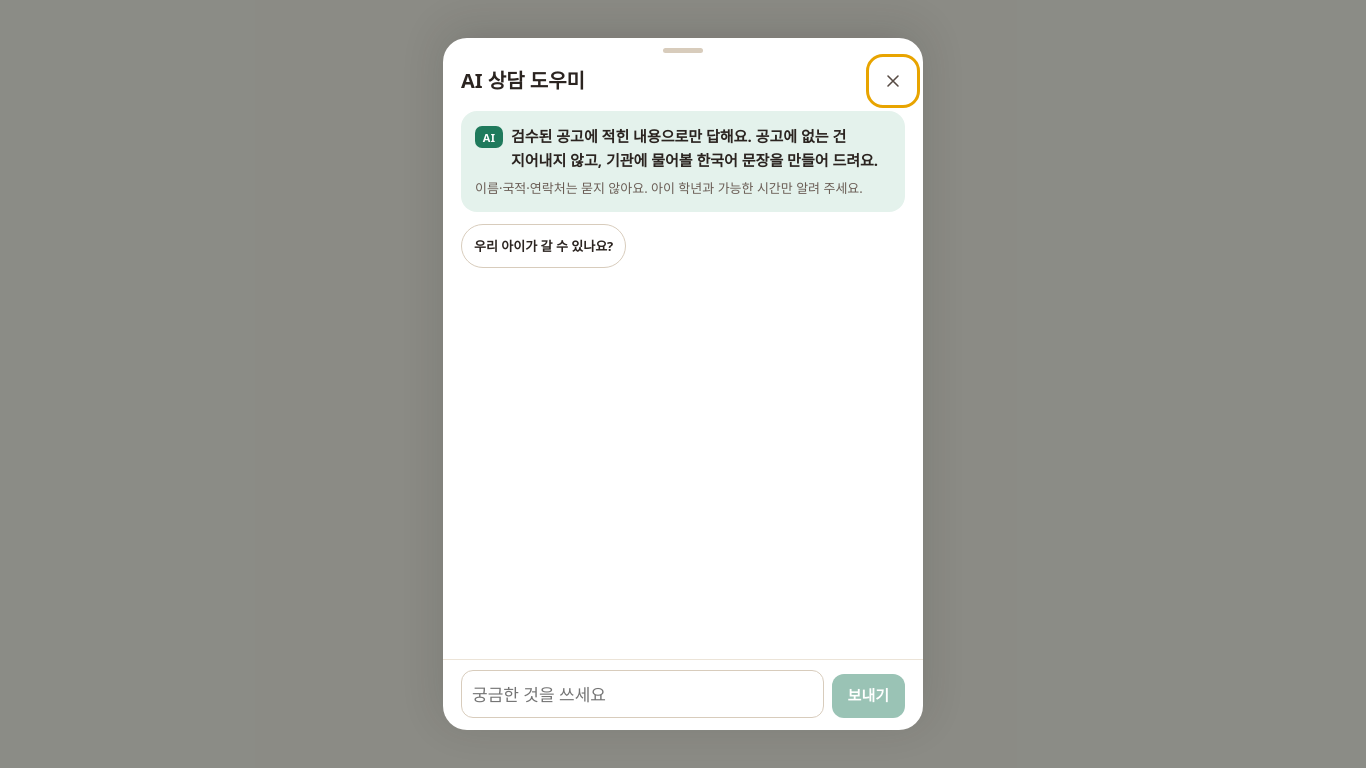
Test: 기관에 이름 없이 알리기 › 중간에 실패한 뒤 다시 누르면 아직 보내지 않은 질문만 보낸다
In the text box labelled "궁금한 것을 쓰세요": (642, 694) [461,670,824,718], type "형제도 갈 수 있어요?"
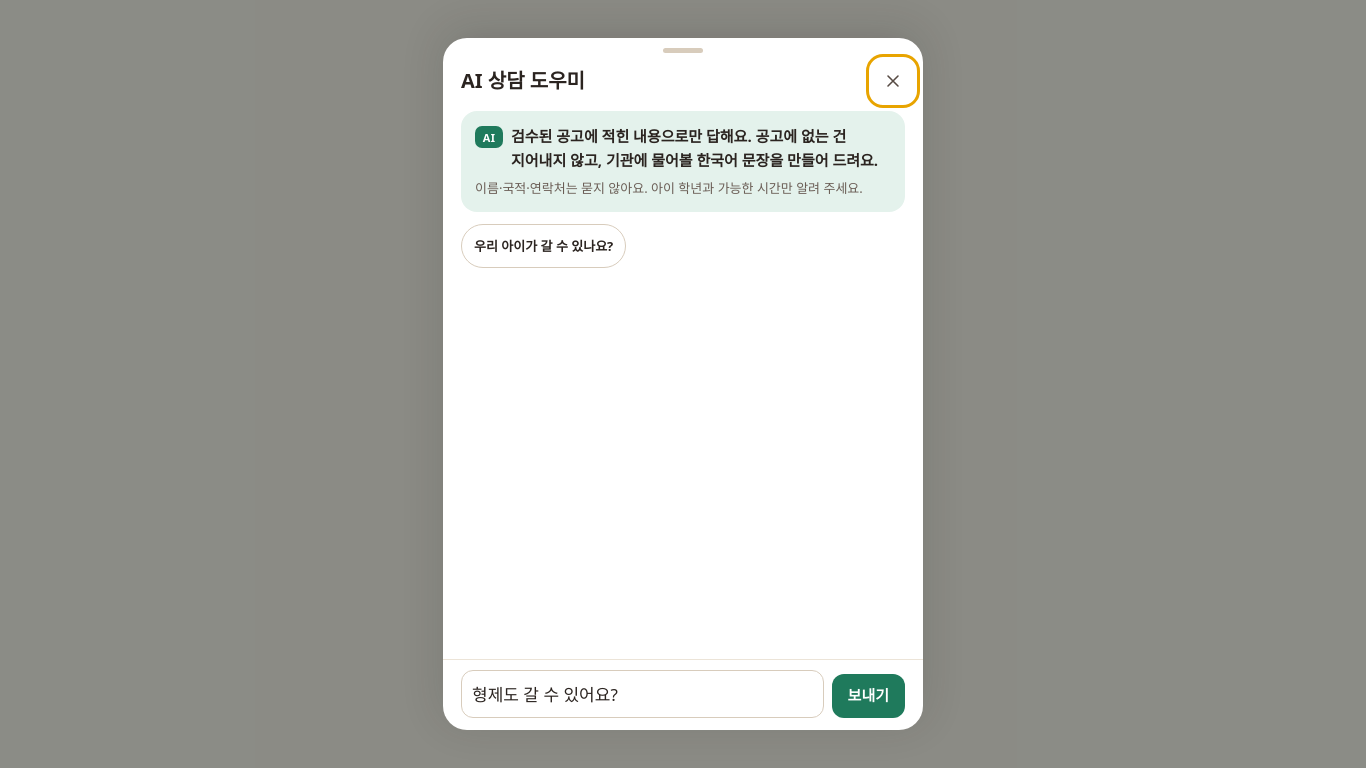
Press Enter in the text box named "궁금한 것을 쓰세요", box [461,670,824,718]
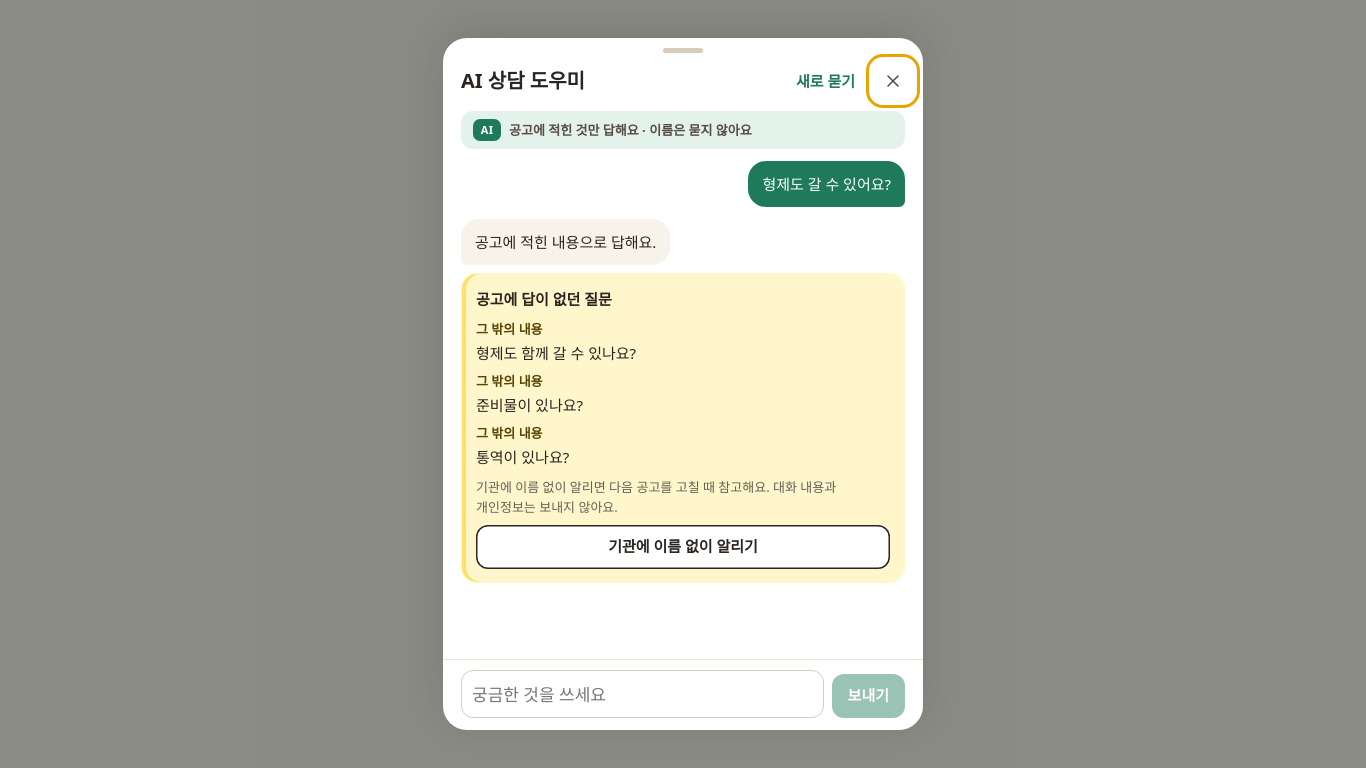
Click the button "기관에 이름 없이 알리기": click(683, 547) [476,525,890,569]
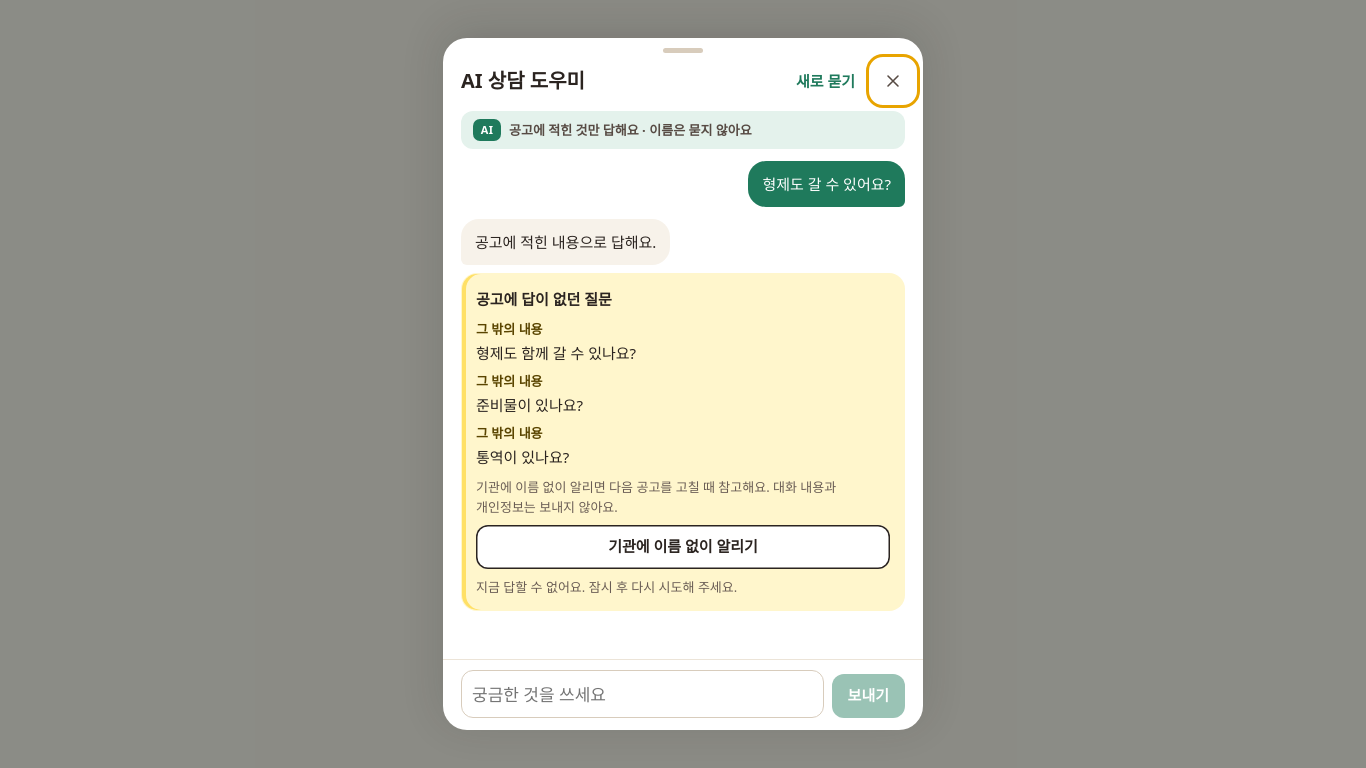
Expected: the text "지금 답할 수 없어요. 잠시 후 다시 시도해 주세요." is shown, [476,578,737,596]
Click the button "기관에 이름 없이 알리기": click(683, 547) [476,525,890,569]
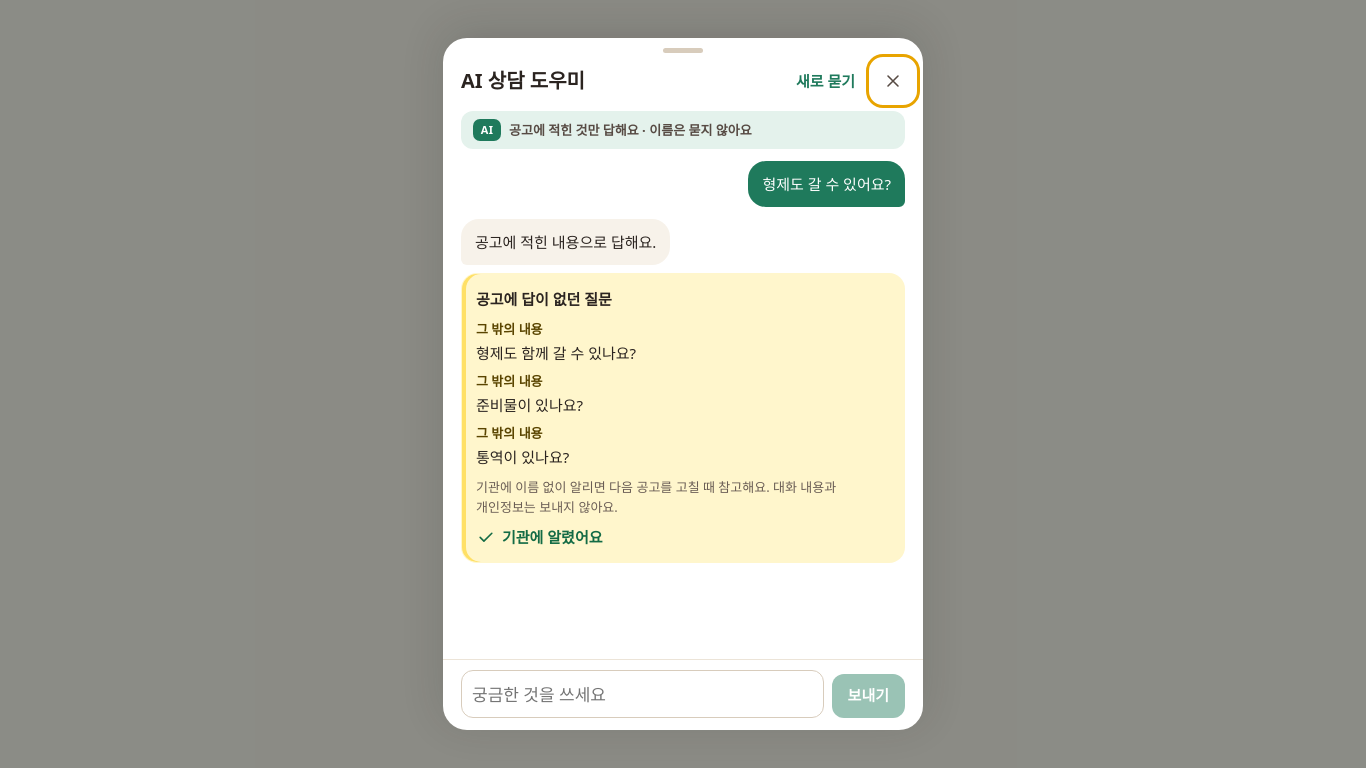
Expected: the text "기관에 알렸어요" is shown, [476,527,602,547]
